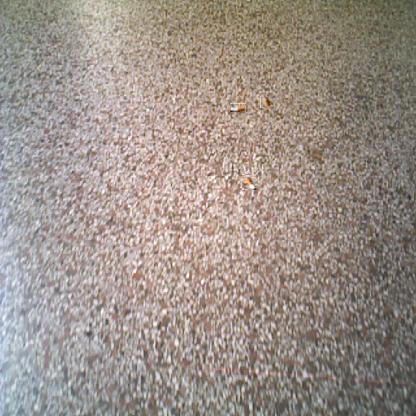dirty: (242, 174, 258, 190), (230, 103, 246, 112), (260, 97, 272, 108)
